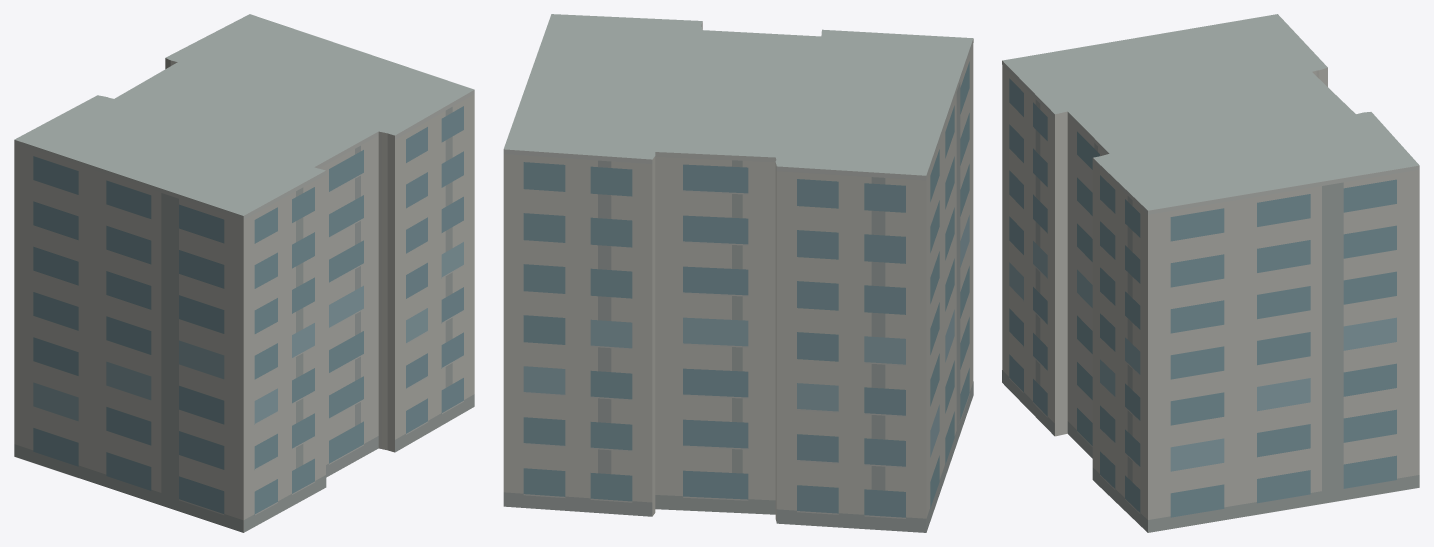
The model's file is survey-upis-33014436.glb.
The picture shows the model from 3 angles, left to right: view 1: azimuth 30°, elevation 25°; view 2: azimuth 150°, elevation 25°; view 3: azimuth 270°, elevation 25°; orthographic projection. The views are drawn at different scales.
Parts seen in each view (by area): view 1: survey-upis-33014436.tmp; view 2: survey-upis-33014436.tmp; view 3: survey-upis-33014436.tmp.
Boxes of the visible parts, x1,y1,x2,y2 form: survey-upis-33014436.tmp: (14,14,474,532); survey-upis-33014436.tmp: (503,14,973,532); survey-upis-33014436.tmp: (1002,14,1419,532).
Bounding box in the file's own units: 24.1 × 18.4 × 21.62.
